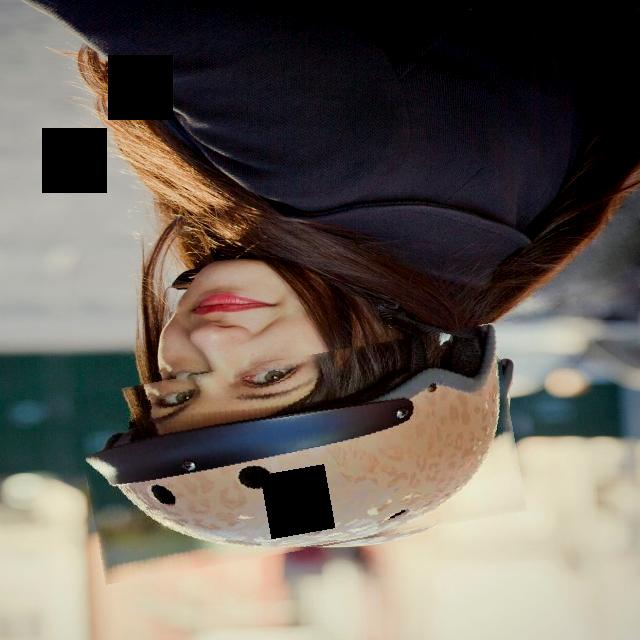helmet: (80, 340, 520, 567)
